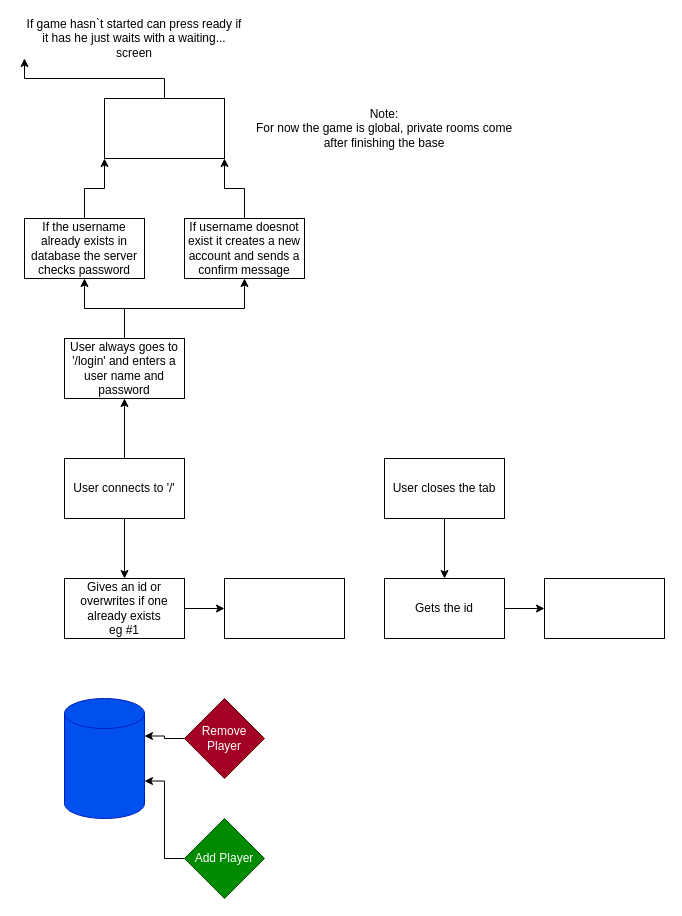
The diagram is 682 pixels wide and 916 high, and some of its shapes have lost their labels. Here are the shapes that lost their labels. From the top down, the centre of each, then its label:
pixel 164 128: User goes to '/lobby'
pixel 284 608: Add player is called with id being arguement
pixel 604 608: Remove player is called with id being arguement
pixel 104 758: Connected Players
